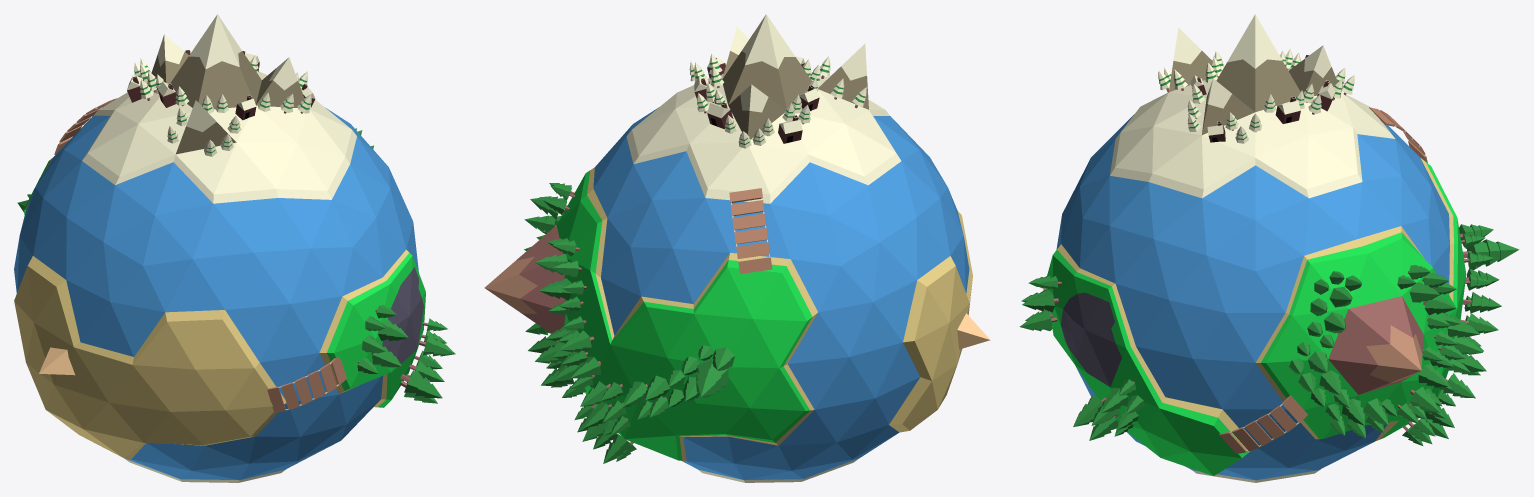
3 views of the same model, side by side, from view 1: azimuth 30°, elevation 25°; view 2: azimuth 150°, elevation 25°; view 3: azimuth 270°, elevation 25° (orthographic).
Visible parts, largest first — view 1: Planet, Cube.002_Bridge_0, Cone.002, Cylinder.007, Cube_Bridge_0; view 2: Planet, Cube_Bridge_0, Cone.236, Cone.002; view 3: Planet, Cube.001_Bridge_0, Cone.236, Cube_Bridge_0.
Part boxes in pixels (box(x1,y1,x2,y2)): Planet: box(14, 14, 425, 482); Cube.002_Bridge_0: box(267, 357, 346, 412); Cone.002: box(39, 347, 74, 375); Cylinder.007: box(400, 370, 442, 398); Cube_Bridge_0: box(54, 98, 117, 154); Planet: box(484, 14, 972, 482); Cube_Bridge_0: box(729, 188, 772, 273); Cone.236: box(696, 359, 728, 397); Cone.002: box(957, 313, 990, 349); Planet: box(1046, 14, 1466, 482); Cube.001_Bridge_0: box(1219, 395, 1307, 453); Cone.236: box(1463, 239, 1519, 269); Cube_Bridge_0: box(1369, 107, 1427, 162).
Size of the model in its own units: 231 by 245 by 246.
